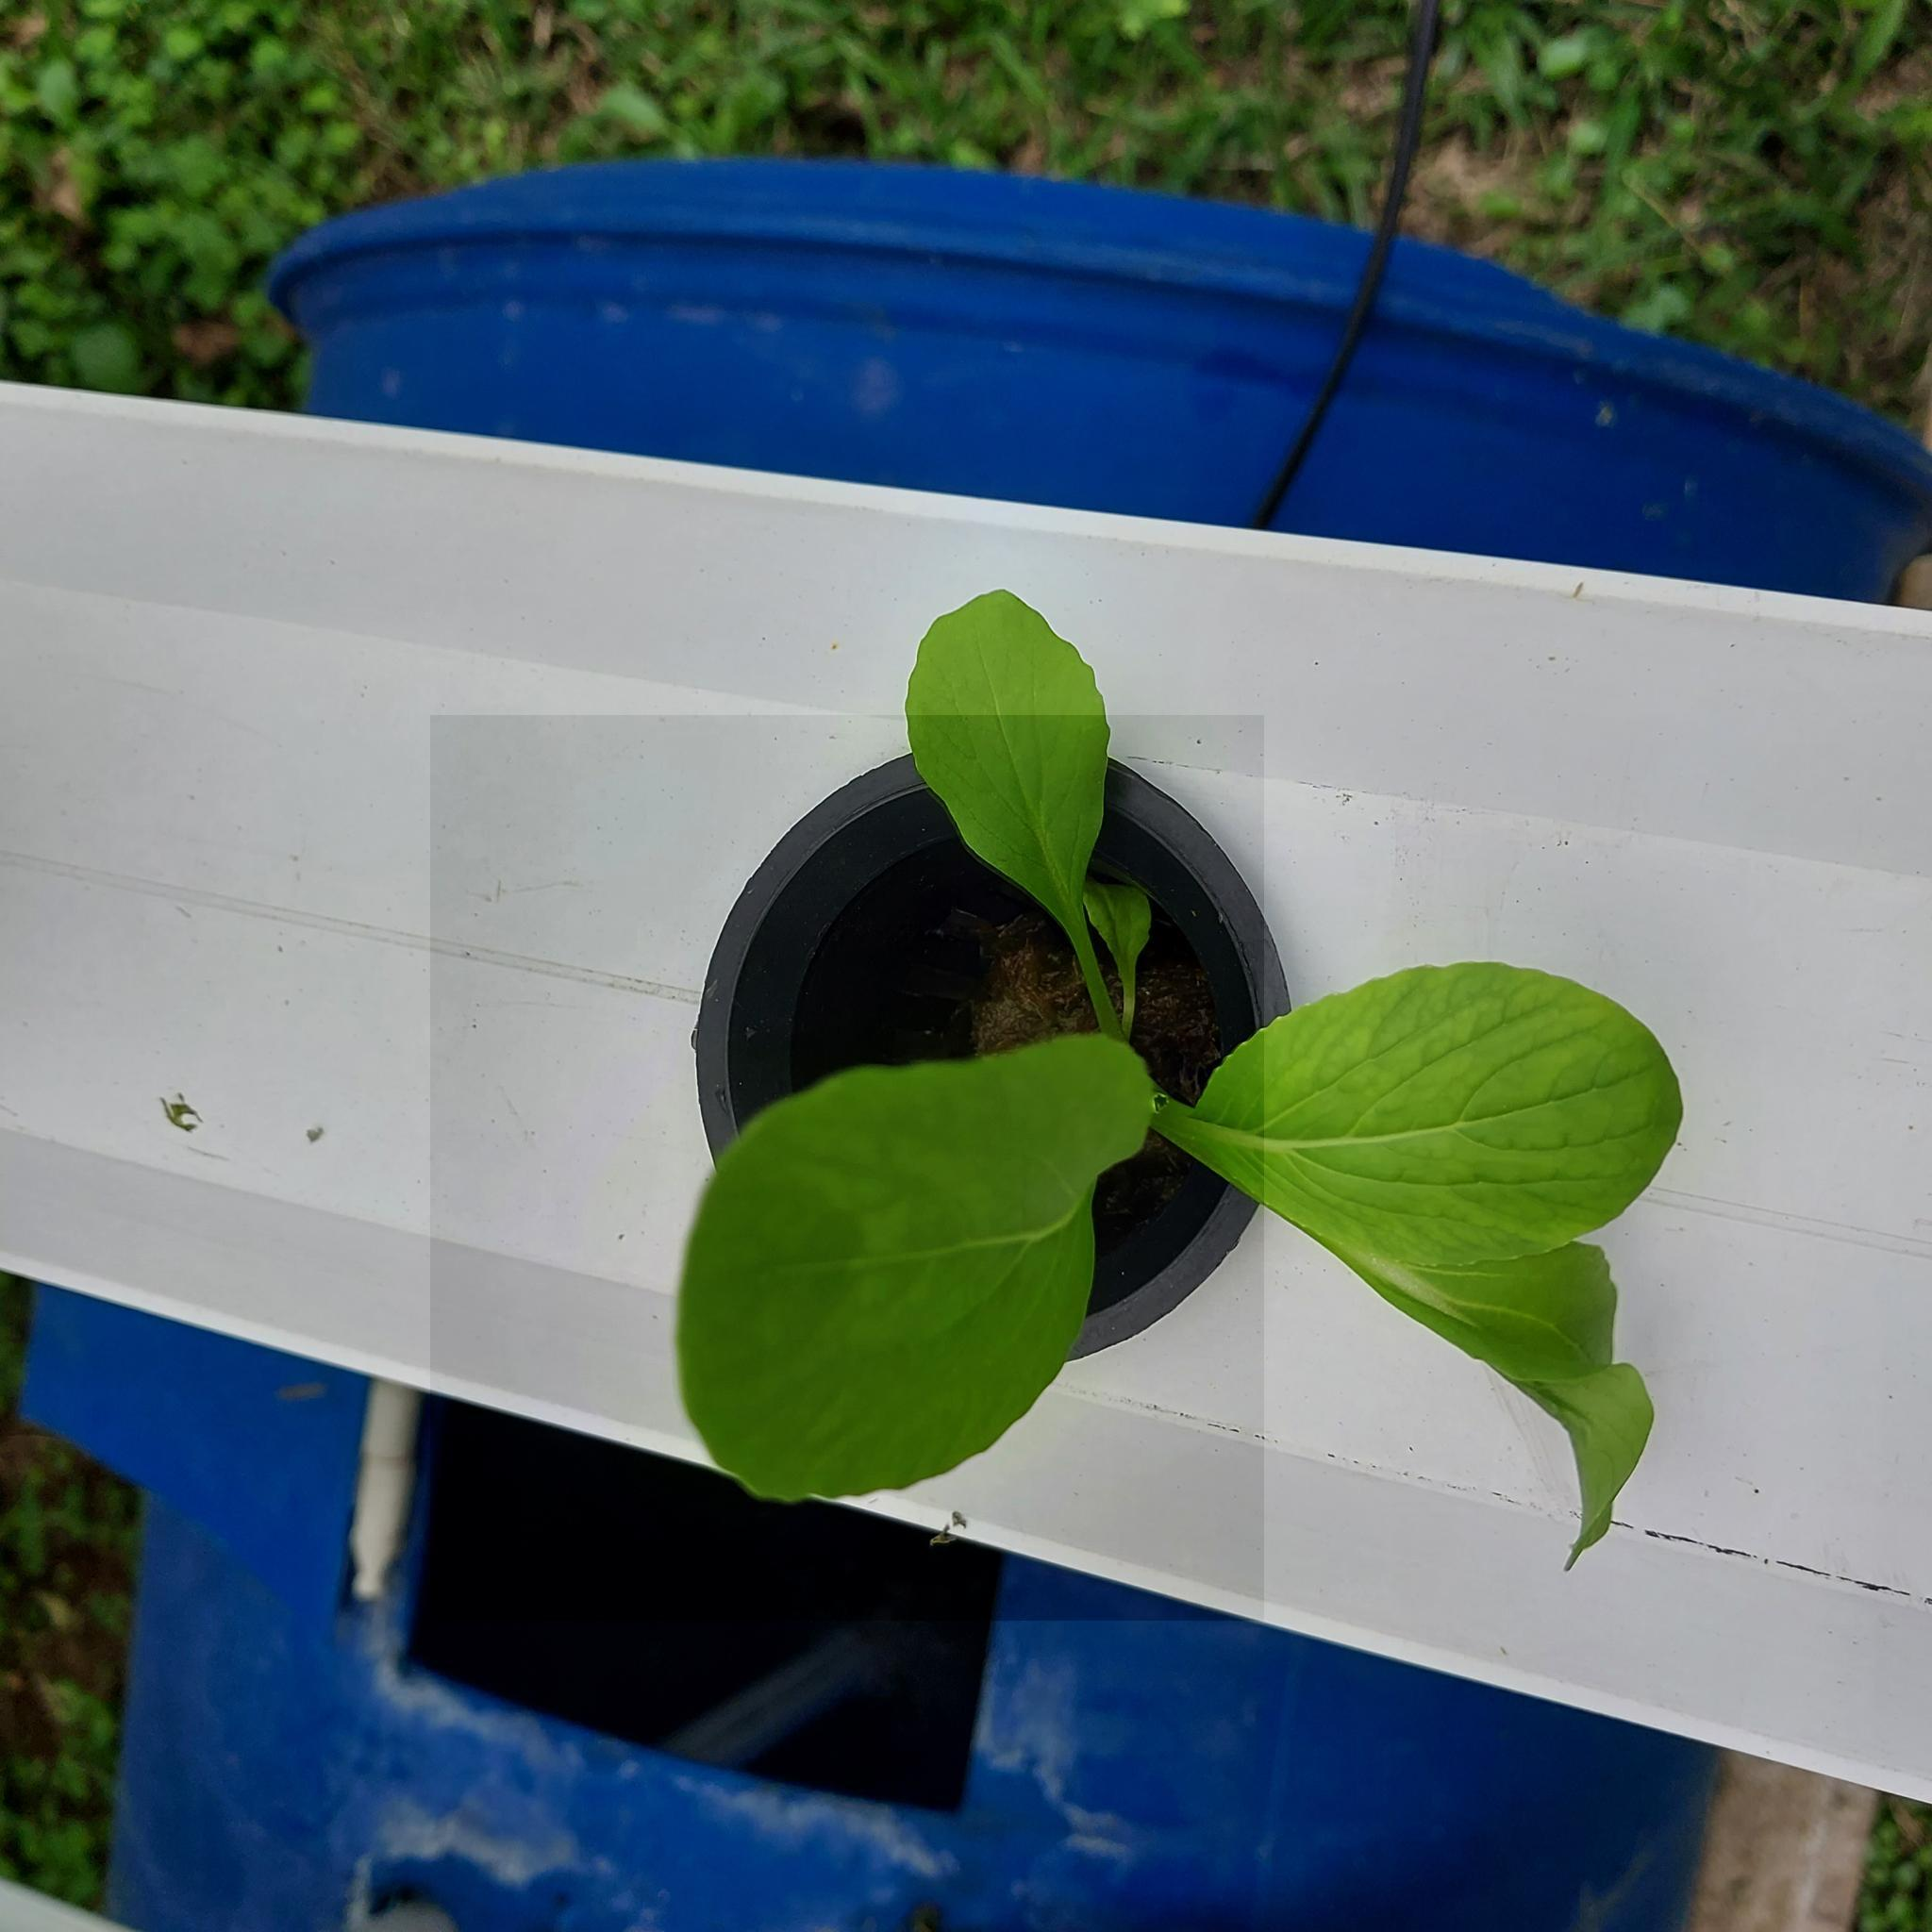Healthy-Pechay: (669, 1030, 1148, 1509), (1166, 964, 1690, 1277), (902, 586, 1127, 1046), (1536, 27, 1608, 80), (1562, 115, 1612, 159), (157, 23, 205, 67)
